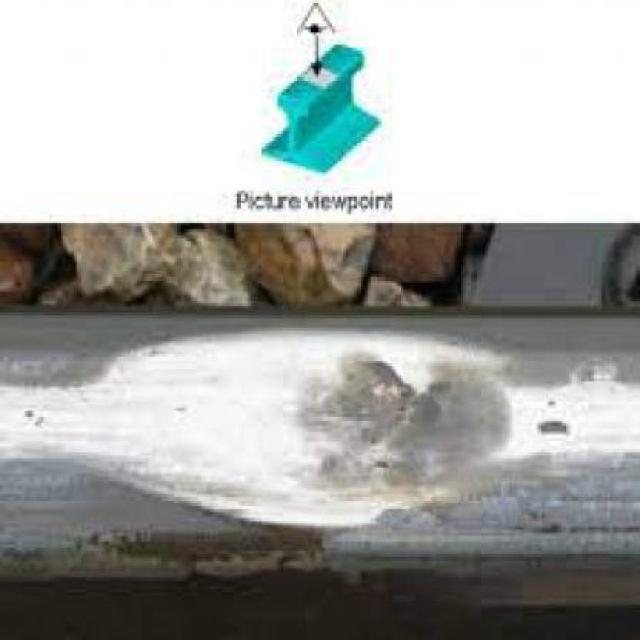defective: (7, 237, 640, 580)
